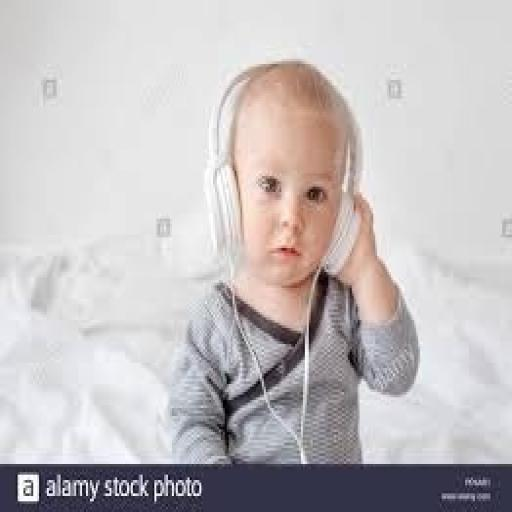listening_to_music: (166, 56, 422, 467)
